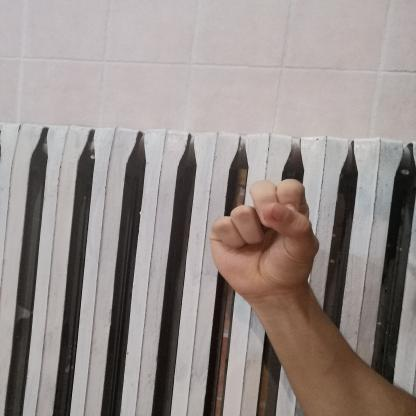QAAF: (198, 170, 334, 307)
